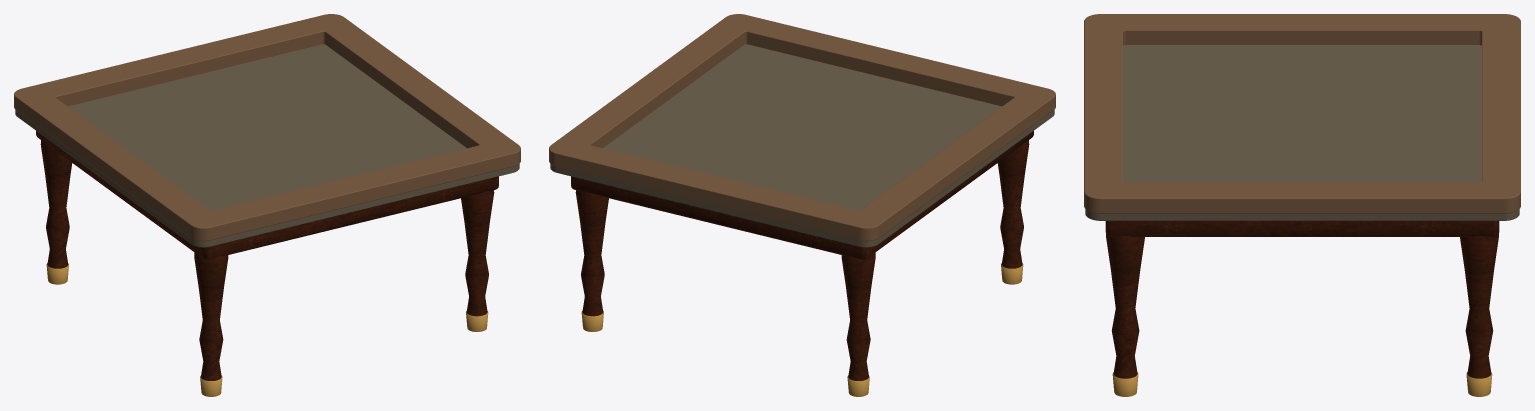
File: okey_table_joined.glb
The picture shows the model from 3 angles, left to right: view 1: azimuth 30°, elevation 25°; view 2: azimuth 150°, elevation 25°; view 3: azimuth 270°, elevation 25°; orthographic projection. The views are drawn at different scales.
Parts seen in each view (by area): view 1: Rounded continuous table bed, Continuous walnut table frame, TableSkirt.001, TurnedLeg_LB.001, TurnedLeg_RB.001, TurnedLeg_LF.001; view 2: Rounded continuous table bed, Continuous walnut table frame, TableSkirt.001, TurnedLeg_LF.001, TurnedLeg_RF.001, TurnedLeg_LB.001; view 3: Rounded continuous table bed, Continuous walnut table frame, TableSkirt.001, TurnedLeg_RB.001, TurnedLeg_RF.001, LegBrassFoot_RB.001, LegBrassFoot_RF.001.
Part boxes in pixels (x1,y1,x2,y2): Rounded continuous table bed: [15, 44, 519, 247]; Continuous walnut table frame: [14, 14, 520, 241]; TableSkirt.001: [36, 131, 498, 259]; TurnedLeg_LB.001: [194, 252, 228, 380]; TurnedLeg_RB.001: [461, 190, 494, 316]; TurnedLeg_LF.001: [40, 140, 72, 268]; Rounded continuous table bed: [550, 44, 1054, 247]; Continuous walnut table frame: [549, 14, 1055, 241]; TableSkirt.001: [571, 131, 1033, 259]; TurnedLeg_LF.001: [841, 252, 875, 380]; TurnedLeg_RF.001: [575, 190, 608, 316]; TurnedLeg_LB.001: [997, 140, 1029, 268]; Rounded continuous table bed: [1085, 45, 1519, 220]; Continuous walnut table frame: [1084, 14, 1520, 213]; TableSkirt.001: [1105, 221, 1499, 236]; TurnedLeg_RB.001: [1106, 234, 1144, 378]; TurnedLeg_RF.001: [1460, 234, 1498, 378]; LegBrassFoot_RB.001: [1112, 372, 1138, 396]; LegBrassFoot_RF.001: [1466, 372, 1492, 396].
Size of the model in its own units: 1.42 by 0.758 by 1.42.
4 materials, 1 textured.
